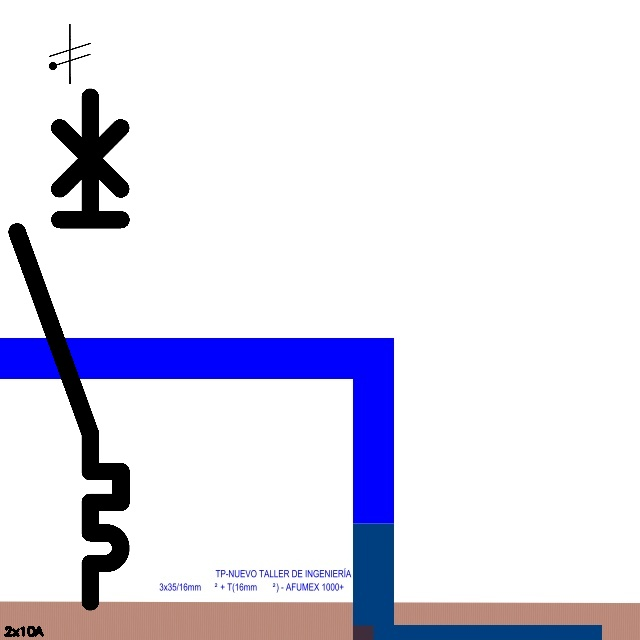interruptor_termomagnetico: (4, 84, 134, 615)
